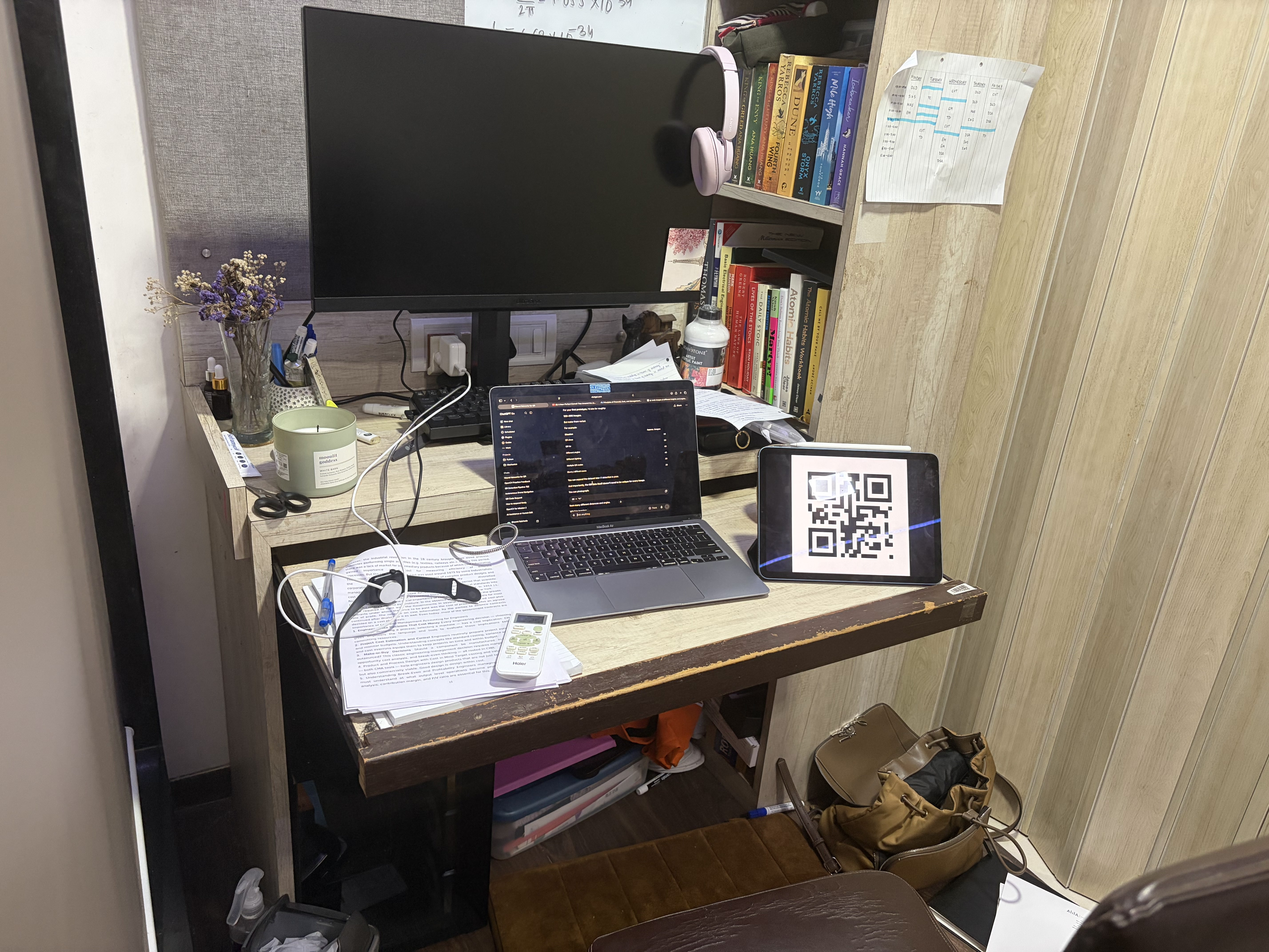QR: (796, 459, 902, 567)
